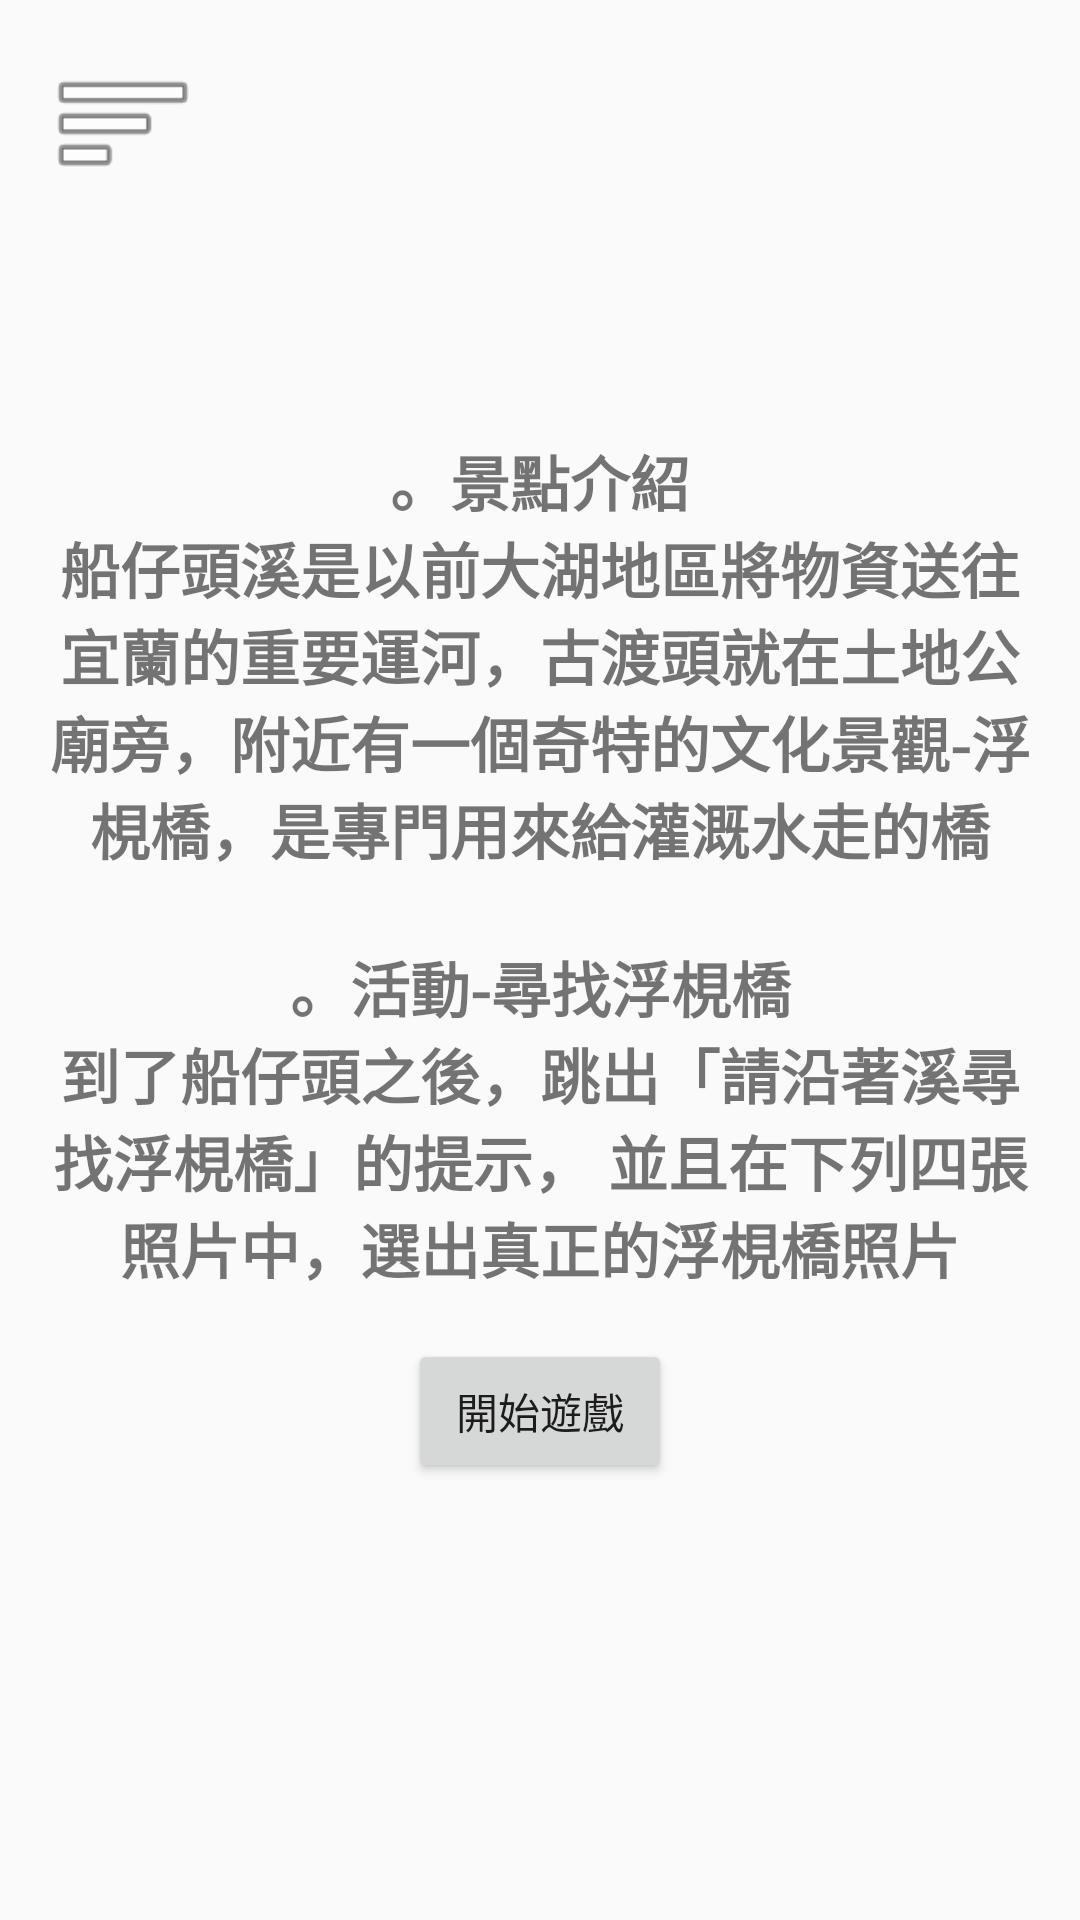

Screen size 1080×1920. Icon name, then its center in pixels as [x,y]:
sort by size: [123,124]
